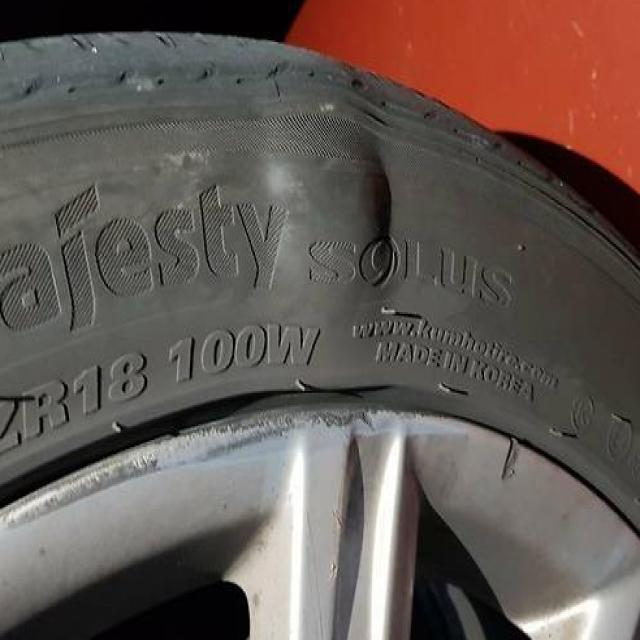Bulge: (245, 105, 400, 308)
